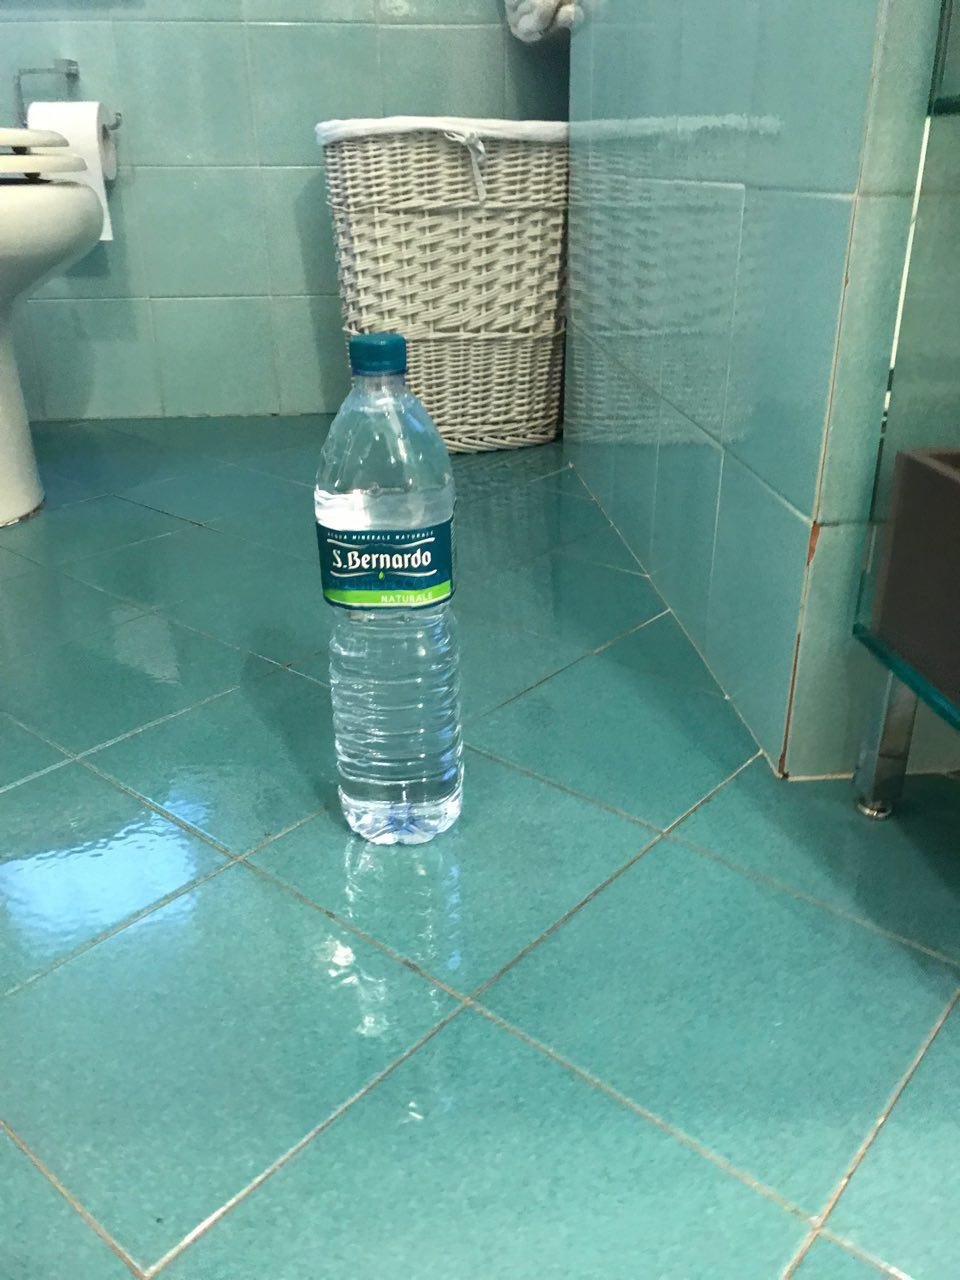san_bernardo: (313, 333, 465, 845)
